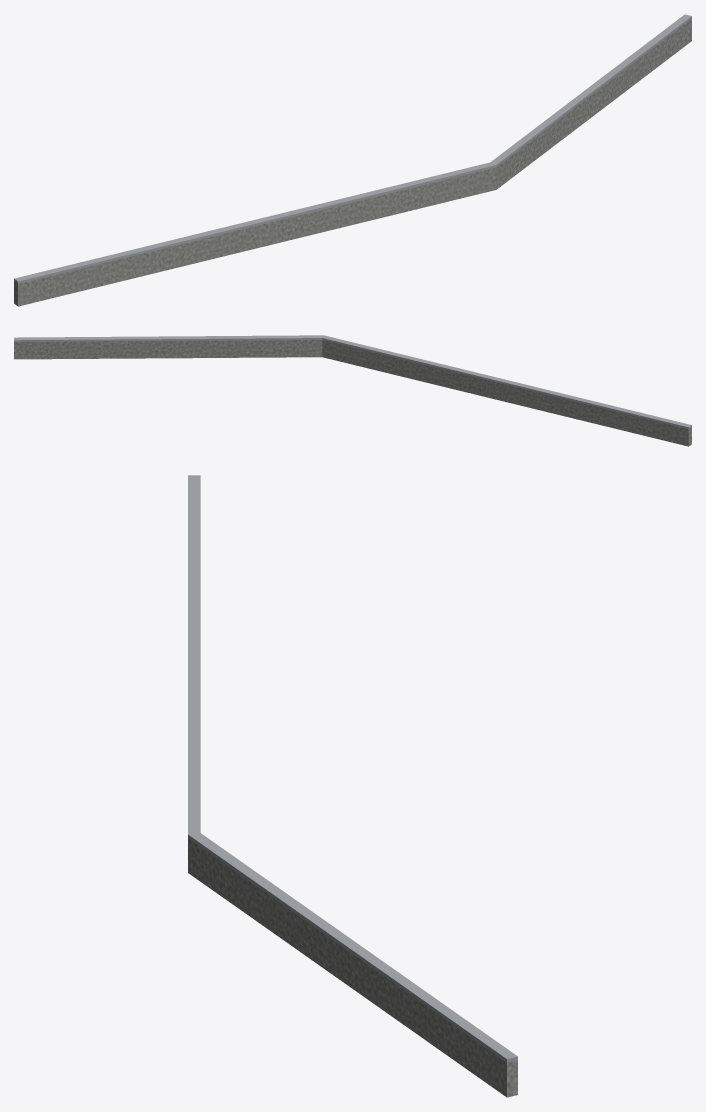
3 views of the same model, one above another, from view 1: azimuth 30°, elevation 25°; view 2: azimuth 150°, elevation 25°; view 3: azimuth 270°, elevation 25° (orthographic). The views are drawn at different scales.
Parts seen in each view (by area): view 1: water.slot_drain (×2); view 2: water.slot_drain (×2); view 3: water.slot_drain (×2).
Part boxes in pixels (<box>): water.slot_drain (×2): <box>14,14,691,306</box>; water.slot_drain (×2): <box>14,335,691,446</box>; water.slot_drain (×2): <box>188,475,517,1097</box>.
Size of the model in its own units: 6.52 by 1.56 by 0.2.
Materials: 3 (1 with a texture image).
